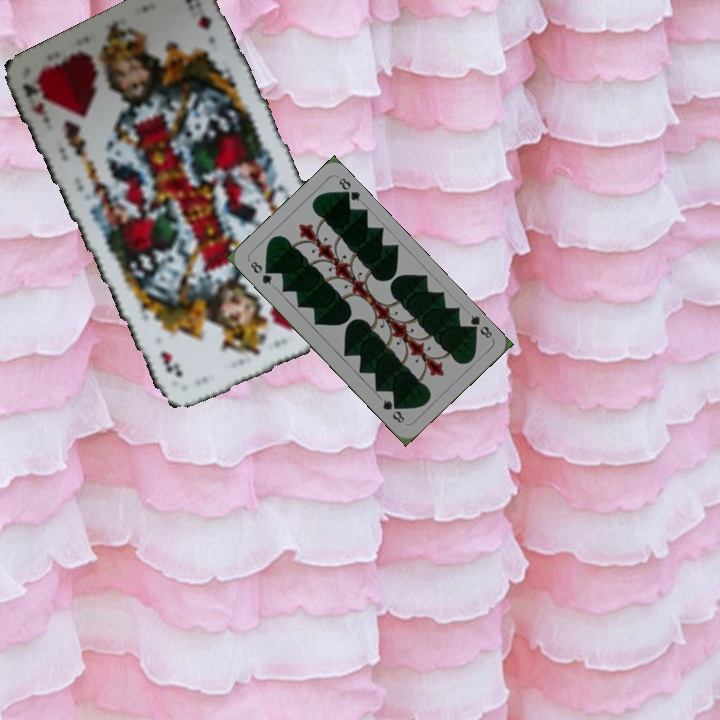G8: (464, 311, 495, 341), (246, 257, 275, 288)
HK: (18, 75, 52, 127)
